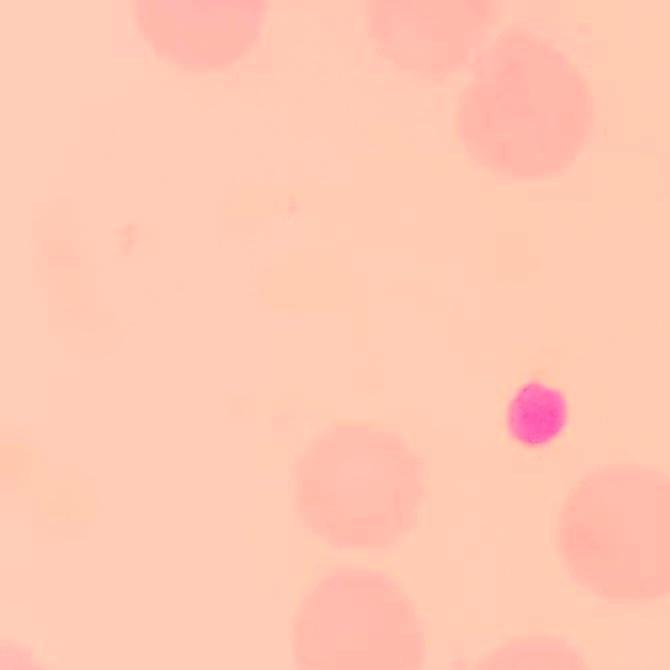Uninfected: (455, 30, 590, 179), (298, 420, 427, 548), (559, 465, 670, 597), (295, 570, 430, 670)
